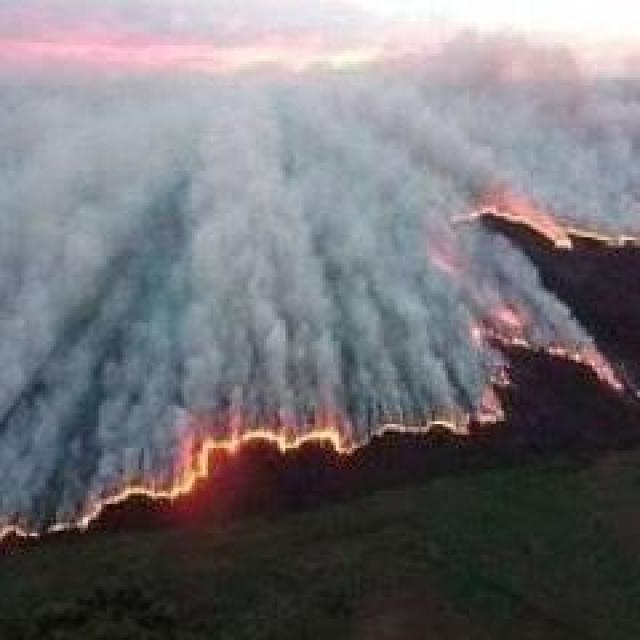Fire: (471, 196, 591, 250), (176, 424, 353, 455), (106, 470, 226, 506), (468, 351, 514, 433), (570, 332, 626, 393), (474, 324, 572, 356), (1, 514, 97, 545), (366, 414, 476, 439)
Smoke: (0, 48, 640, 497)
